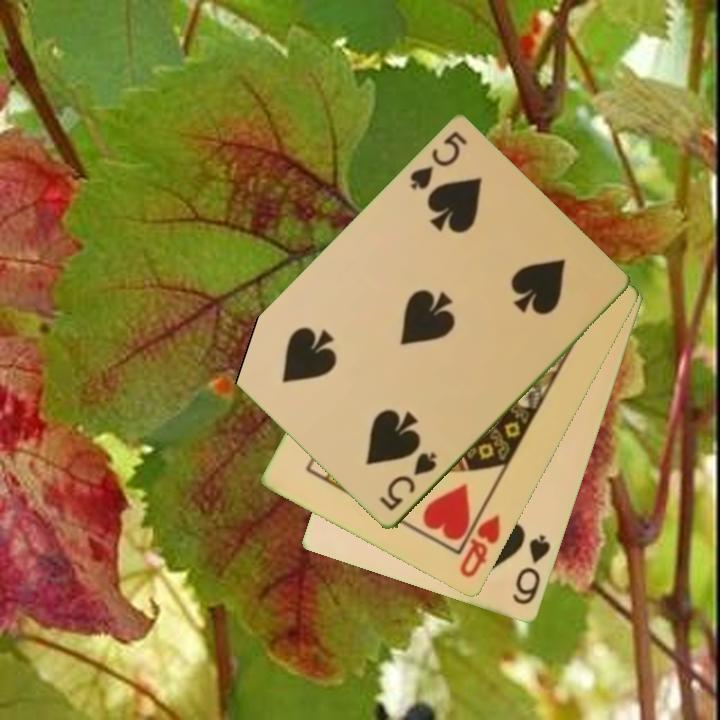5s: (376, 448, 441, 515), (406, 128, 470, 194)
6s: (508, 532, 554, 609)
Qh: (456, 511, 504, 581)
